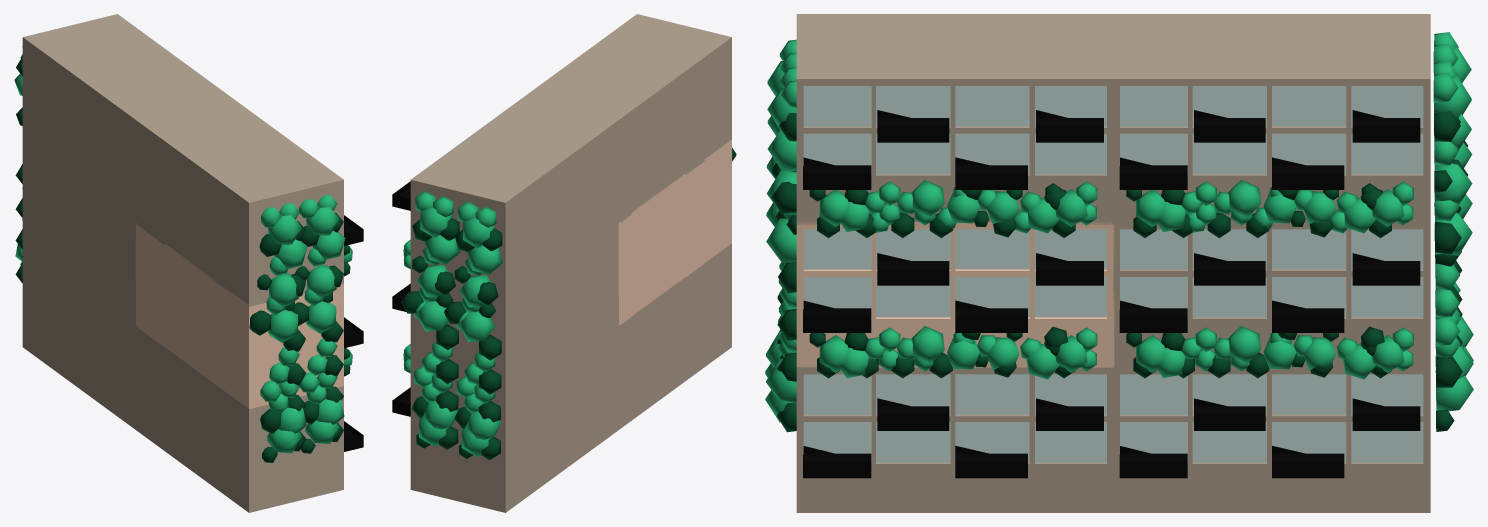
Rendered from groenappartementgekleurd.fbx.
3 renders of one model, left to right at view 1: azimuth 30°, elevation 25°; view 2: azimuth 150°, elevation 25°; view 3: azimuth 270°, elevation 25°, orthographic. The views are drawn at different scales.
Parts seen in each view (by area): view 1: Cube.024, Cube.013, Cube.041, Cube.019, Cube, Cube.009, Icosphere.440, Icosphere.438, Icosphere.444, Icosphere.427, Icosphere.432, Icosphere.247 (+8 smaller); view 2: Cube.013, Cube.024, Cube, Cube.009, Cube.041, Cube.019, Icosphere.151, Icosphere.152, Icosphere.185, Icosphere.186, Icosphere.144, Icosphere.193 (+12 smaller); view 3: Cube.024, Cube.013, Cube.012, Cube.028, Cube.011, Cube.029, Cube.041, Cube.010, Cube.030, Cube, Cube.019, Cube.009 (+44 smaller).
Part boxes in pixels (x1,y1,x2,y2): Cube.024: [135, 97, 343, 306]; Cube.013: [22, 14, 230, 221]; Cube.041: [135, 326, 343, 512]; Cube.019: [135, 222, 343, 408]; Cube: [22, 243, 135, 429]; Cube.009: [22, 140, 135, 325]; Icosphere.440: [306, 301, 336, 333]; Icosphere.438: [307, 264, 336, 298]; Icosphere.444: [306, 207, 339, 235]; Icosphere.427: [312, 231, 345, 260]; Icosphere.432: [305, 420, 339, 443]; Icosphere.247: [268, 215, 301, 242]; Cube.013: [410, 97, 618, 304]; Cube.024: [524, 14, 731, 222]; Cube: [410, 327, 618, 512]; Cube.009: [410, 224, 618, 408]; Cube.041: [618, 243, 731, 429]; Cube.019: [618, 139, 731, 325]; Icosphere.151: [458, 311, 495, 341]; Icosphere.152: [467, 245, 502, 274]; Icosphere.185: [425, 235, 460, 264]; Icosphere.186: [416, 301, 448, 331]; Icosphere.144: [465, 411, 501, 439]; Icosphere.193: [422, 400, 457, 429]; Cube.024: [796, 14, 1114, 224]; Cube.013: [1113, 14, 1430, 224]; Cube.012: [1120, 86, 1423, 174]; Cube.028: [803, 86, 1106, 174]; Cube.011: [1120, 374, 1423, 462]; Cube.029: [803, 374, 1106, 462]; Cube.041: [796, 367, 1114, 512]; Cube.010: [1120, 229, 1423, 317]; Cube.030: [803, 229, 1106, 317]; Cube: [1113, 367, 1430, 512]; Cube.019: [796, 222, 1114, 367]; Cube.009: [1113, 222, 1430, 367].
Size of the model in its own units: 3301 by 8300 by 12283.
